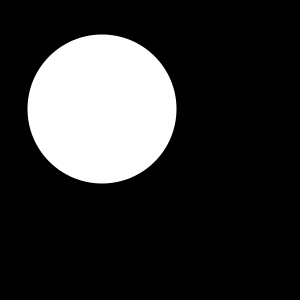rectangle: (28, 35, 176, 184)
